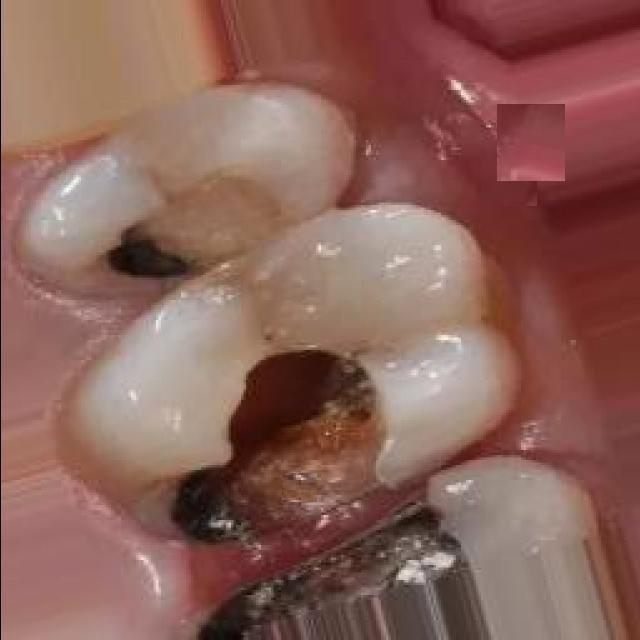caries: (496, 104, 564, 181), (525, 38, 569, 92), (502, 176, 536, 206), (281, 473, 316, 502), (310, 446, 340, 466)
